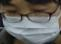with_mask: (1, 2, 61, 44)
